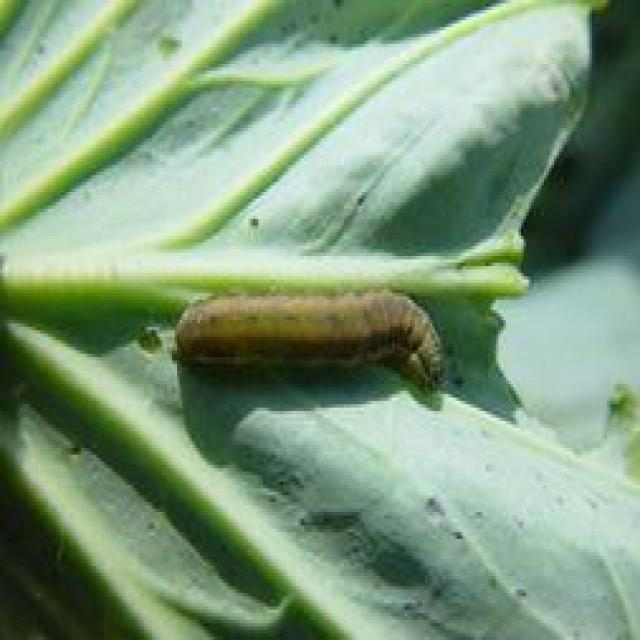BeetArmyWorm-Larva-: (163, 278, 452, 398)
